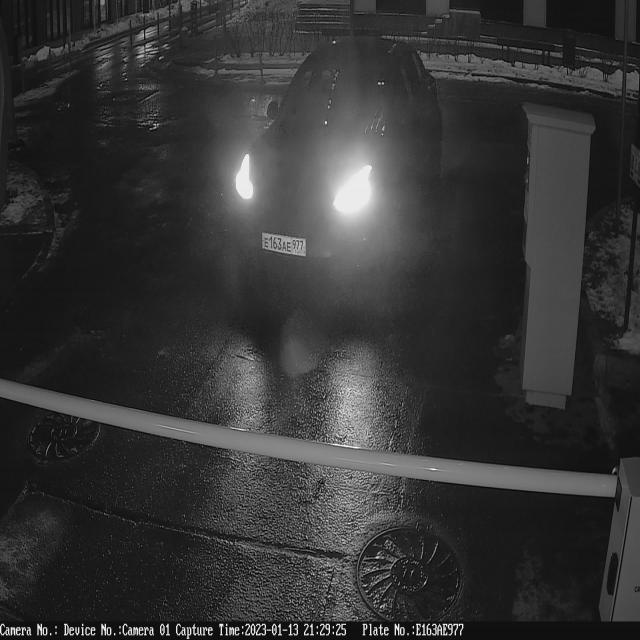car-plate-numbers: (260, 229, 311, 264)
